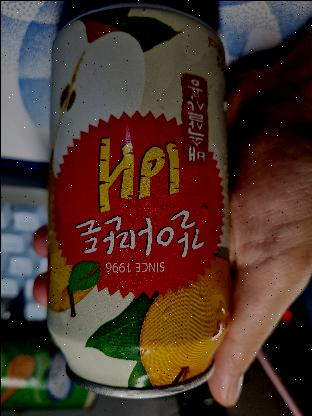Can: (48, 0, 242, 400)
